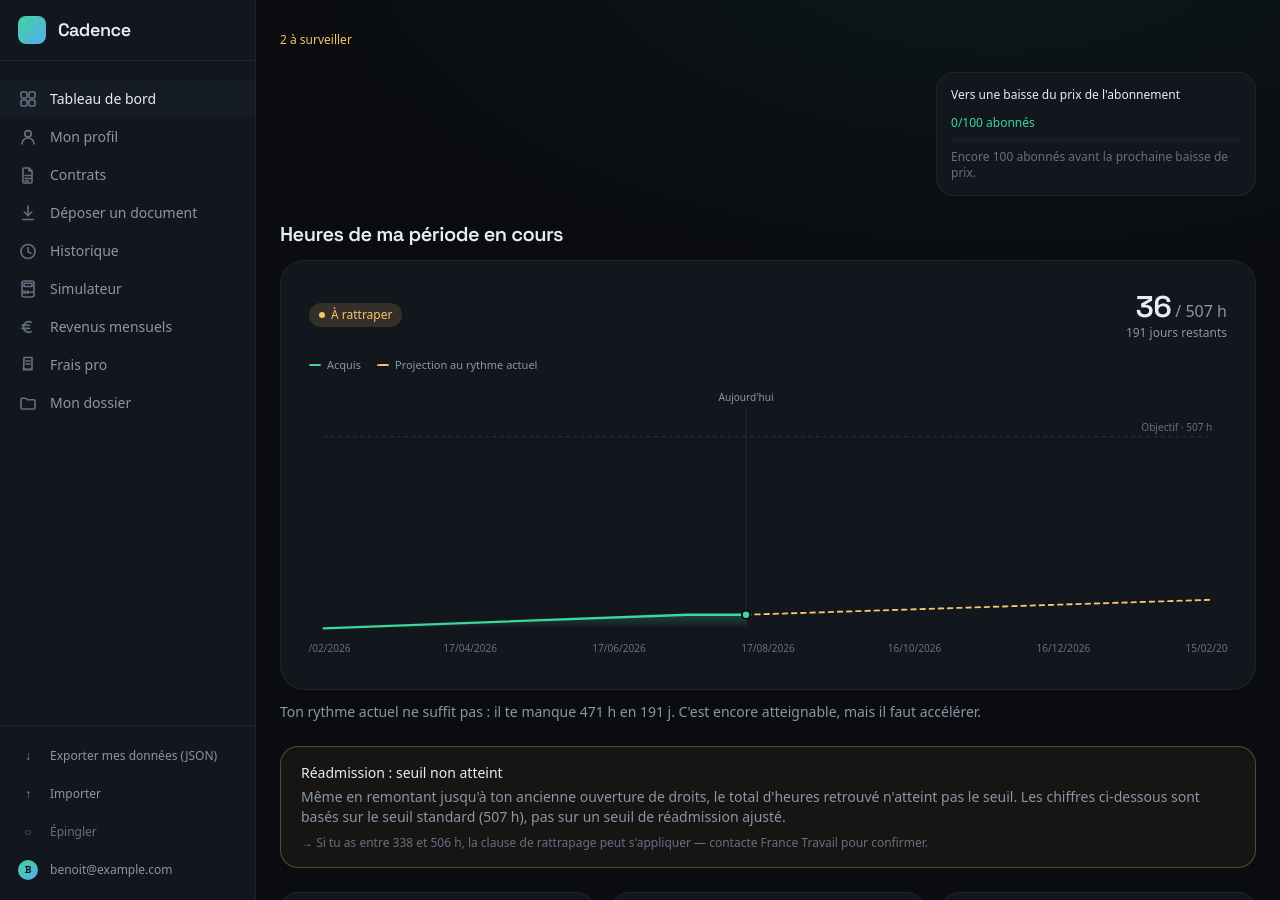
Test: App — une fois connecté, l'app entière redevient accessible › l'onglet Mon compte (dans Paramètres, atteint depuis le menu de l'avatar) affiche l'e-mail connecté
expect the navigation bar named "navigation principale" is shown: met, box [0, 81, 255, 421]
Click the button with aria-label "menu du compte" at (128, 870), box [0, 852, 255, 888]
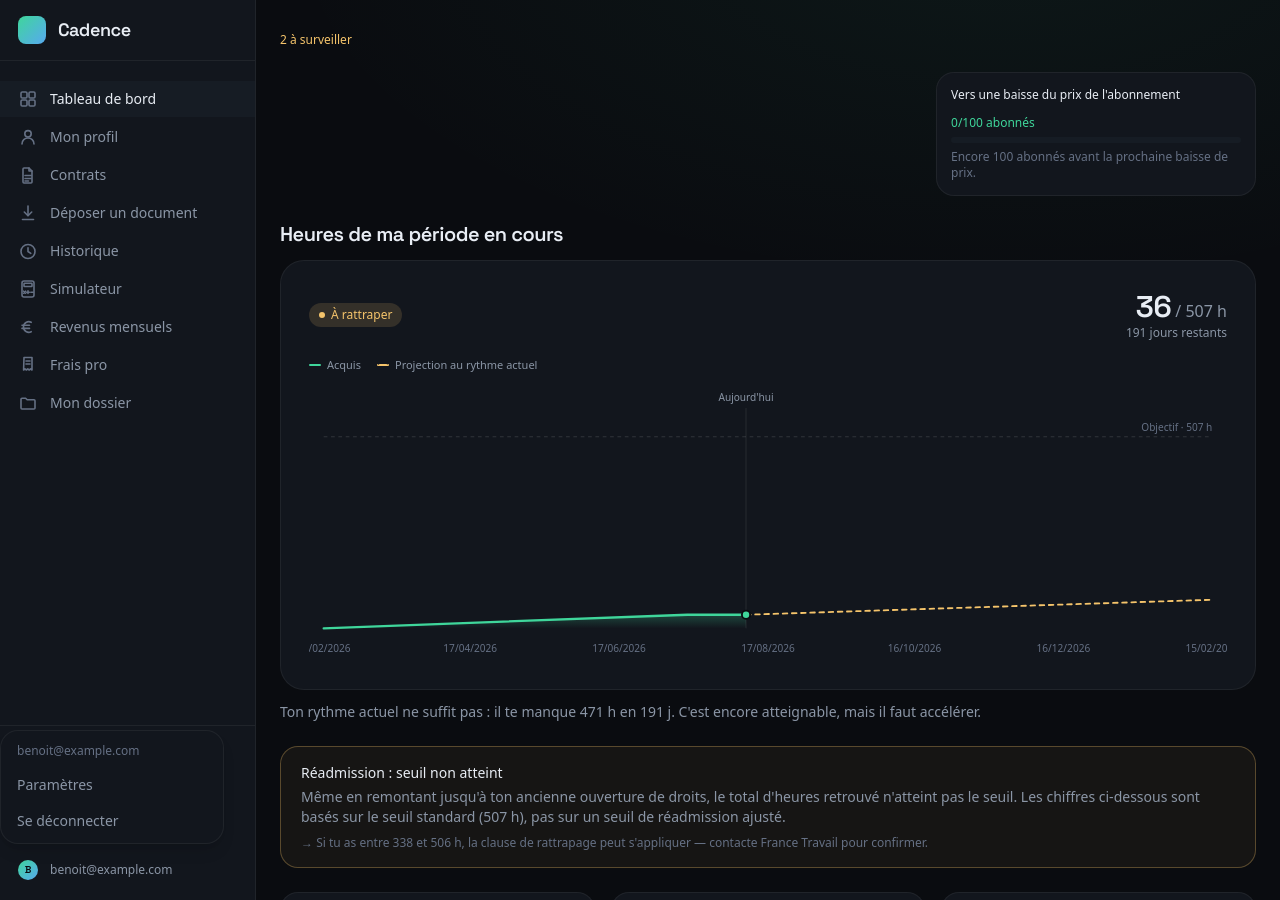
Click the menu item "Paramètres" at (112, 785), box [5, 767, 219, 803]
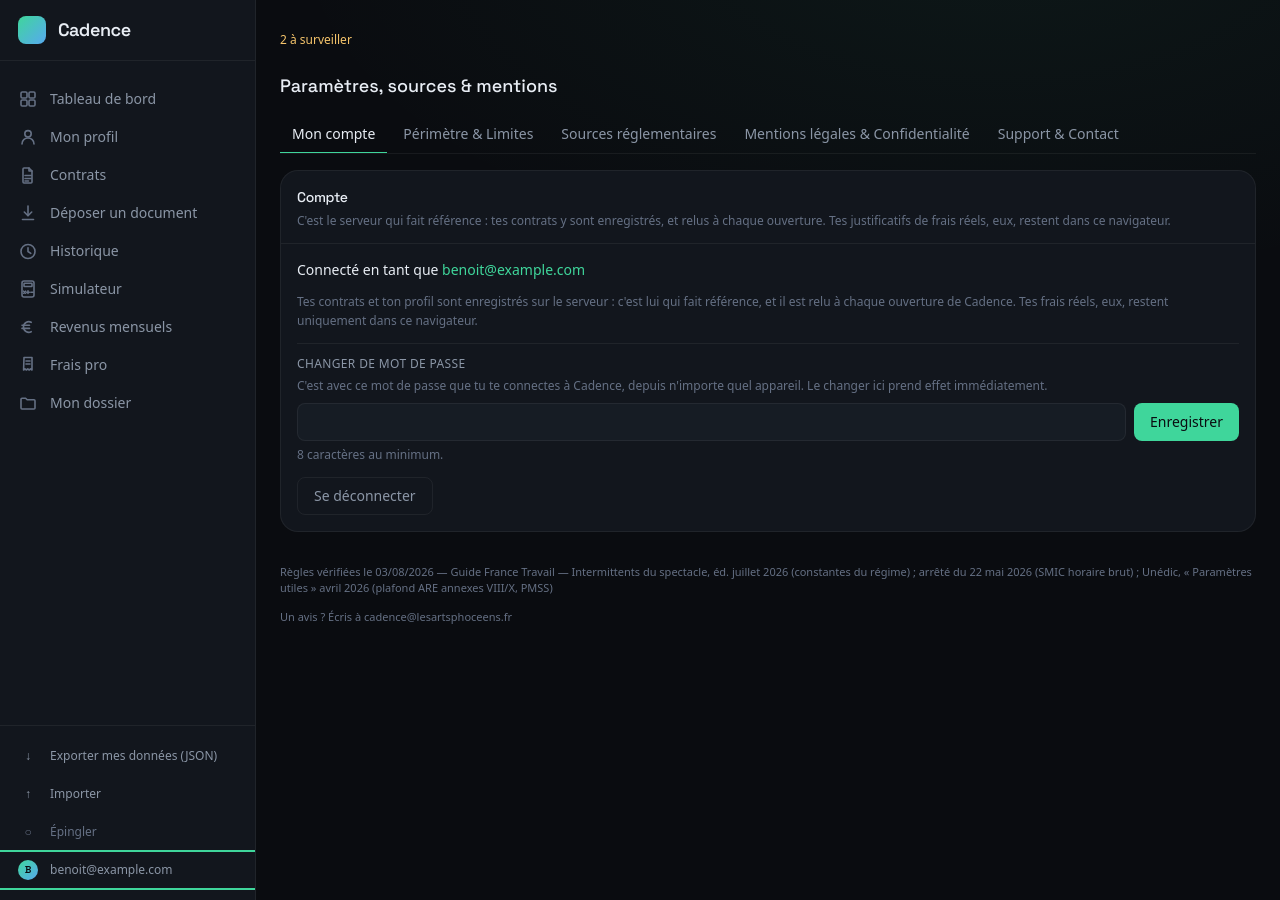
expect the 2nd text "benoit@example.com" is shown: met, box [50, 862, 173, 878]
expect the heading "Compte" is shown: met, box [297, 188, 348, 206]
